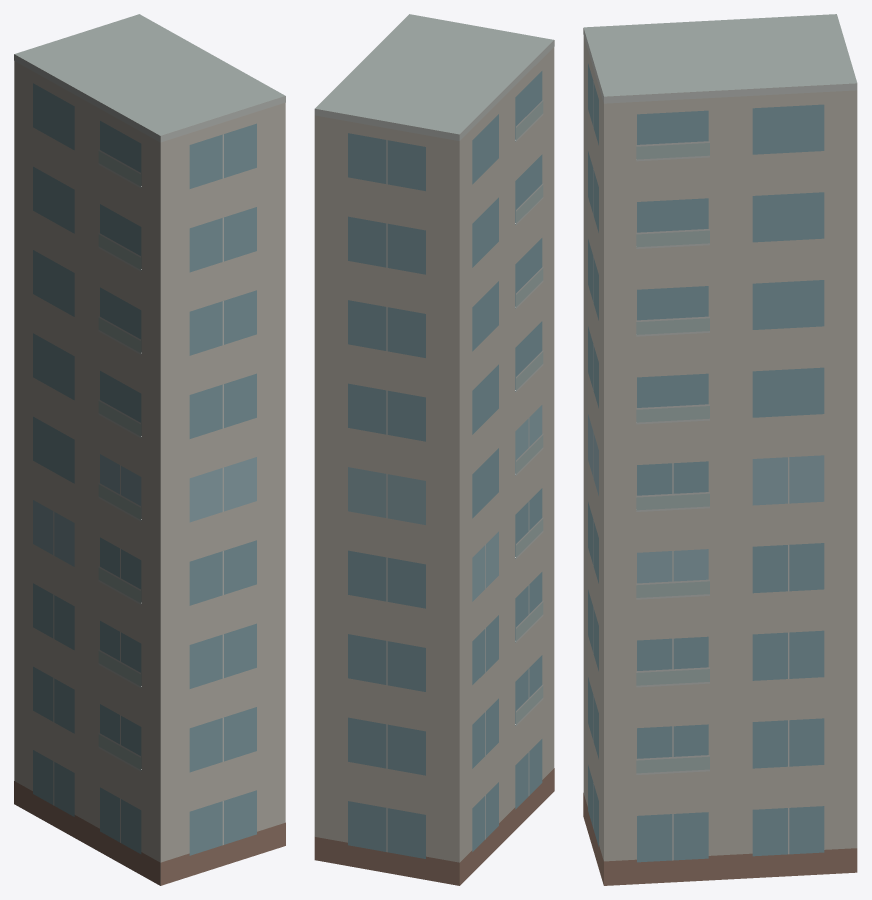
Rendered from survey-upis-33025232.glb.
3 views of the same model, side by side, from view 1: azimuth 30°, elevation 25°; view 2: azimuth 150°, elevation 25°; view 3: azimuth 270°, elevation 25° (orthographic). The views are drawn at different scales.
Parts seen in each view (by area): view 1: survey-upis-33025232.tmp; view 2: survey-upis-33025232.tmp; view 3: survey-upis-33025232.tmp.
Part boxes in pixels (bbox=[...]): survey-upis-33025232.tmp: bbox=[14, 14, 285, 885]; survey-upis-33025232.tmp: bbox=[314, 14, 554, 885]; survey-upis-33025232.tmp: bbox=[583, 14, 857, 885].
Bounding box in the file's own units: 6.17 × 27.45 × 8.65.
